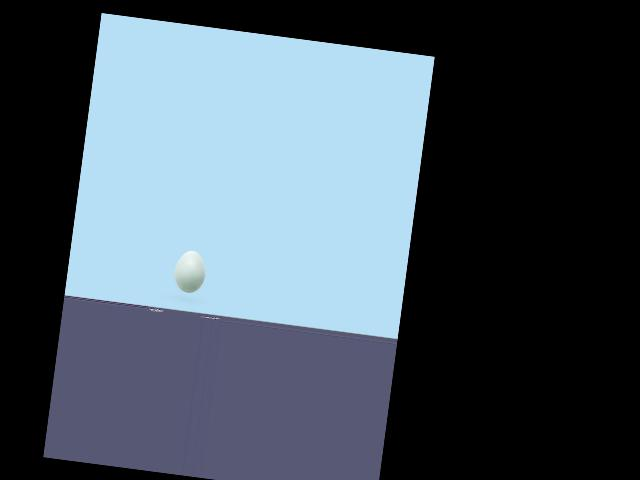egg: (172, 248, 208, 294)
